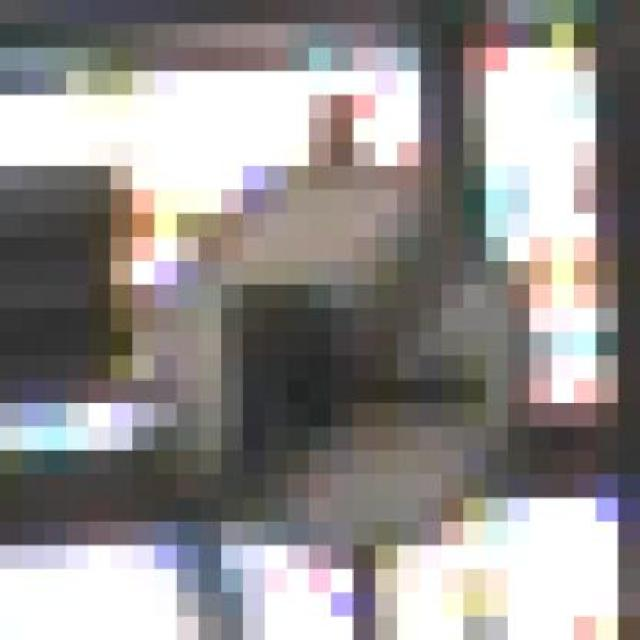Overtaking by trucks is prohibited: (89, 118, 596, 592)
